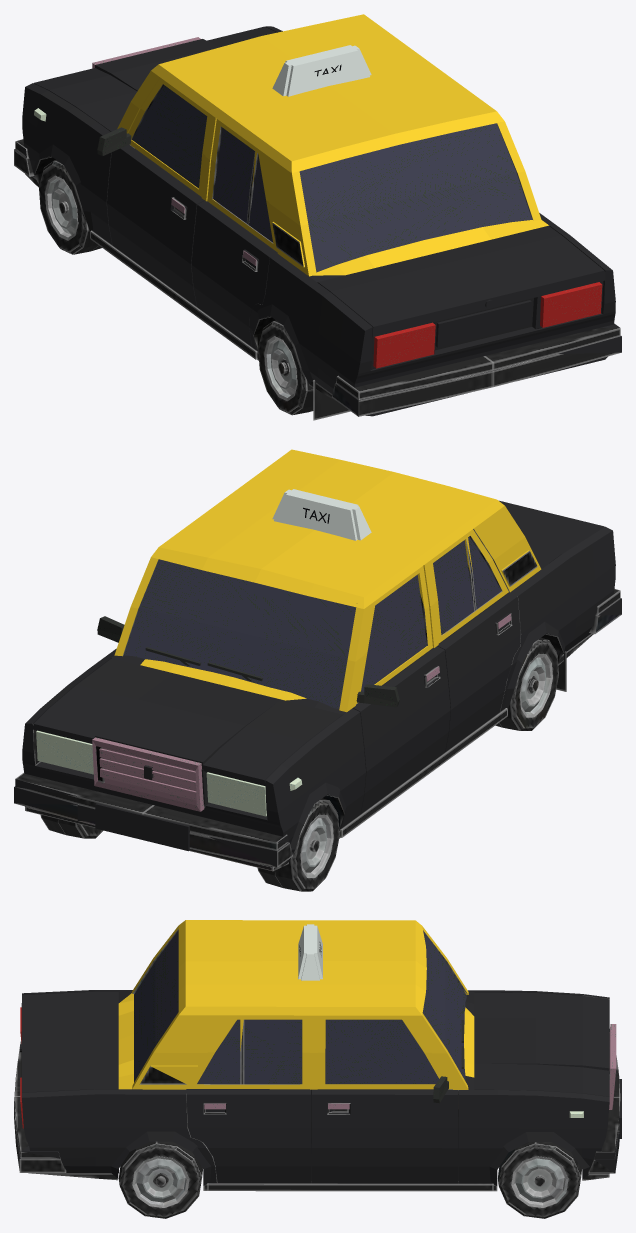
The model's file is taxi.glb.
3 views of the same model, one above another, from view 1: azimuth 30°, elevation 25°; view 2: azimuth 150°, elevation 25°; view 3: azimuth 270°, elevation 25° (orthographic). The views are drawn at different scales.
Visible parts, largest first — view 1: body, wheel_RL, wheel_FL; view 2: body, wheel_FL, wheel_RL, wheel_FR; view 3: body, wheel_FR, wheel_RR.
Boxes of the visible parts, box(x1,y1,x2,y2) form: body: box(14, 14, 621, 416); wheel_RL: box(258, 320, 350, 420); wheel_FL: box(39, 160, 101, 254); body: box(14, 449, 621, 871); wheel_FL: box(257, 798, 339, 891); wheel_RL: box(495, 637, 566, 730); wheel_FR: box(40, 815, 103, 838); body: box(14, 920, 621, 1191); wheel_FR: box(498, 1142, 581, 1218); wheel_RR: box(118, 1141, 202, 1218).
Size of the model in its own units: 2.04 by 1.7 by 4.13.
4 materials, 2 textured.
